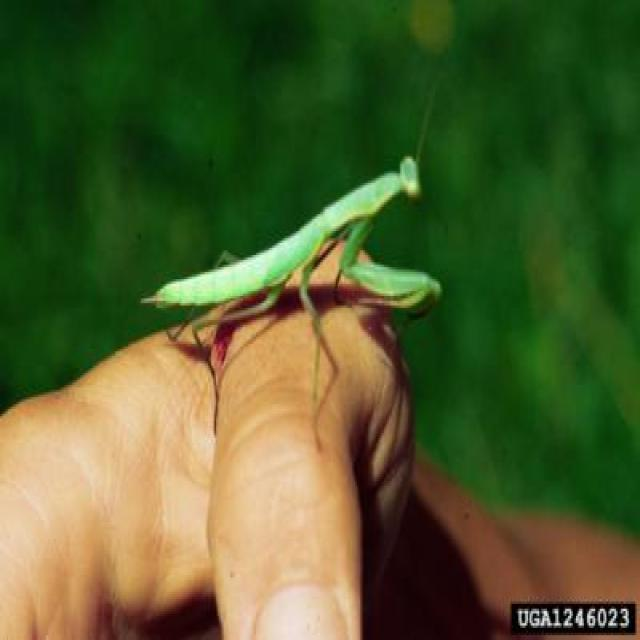antennae: (415, 83, 441, 163)
body: (144, 160, 418, 314)
insect: (135, 85, 450, 427)
legs: (194, 275, 288, 426), (338, 224, 437, 319), (163, 247, 239, 348), (299, 251, 320, 426)
mouthpart: (407, 182, 422, 203)
wings: (147, 222, 320, 311)
